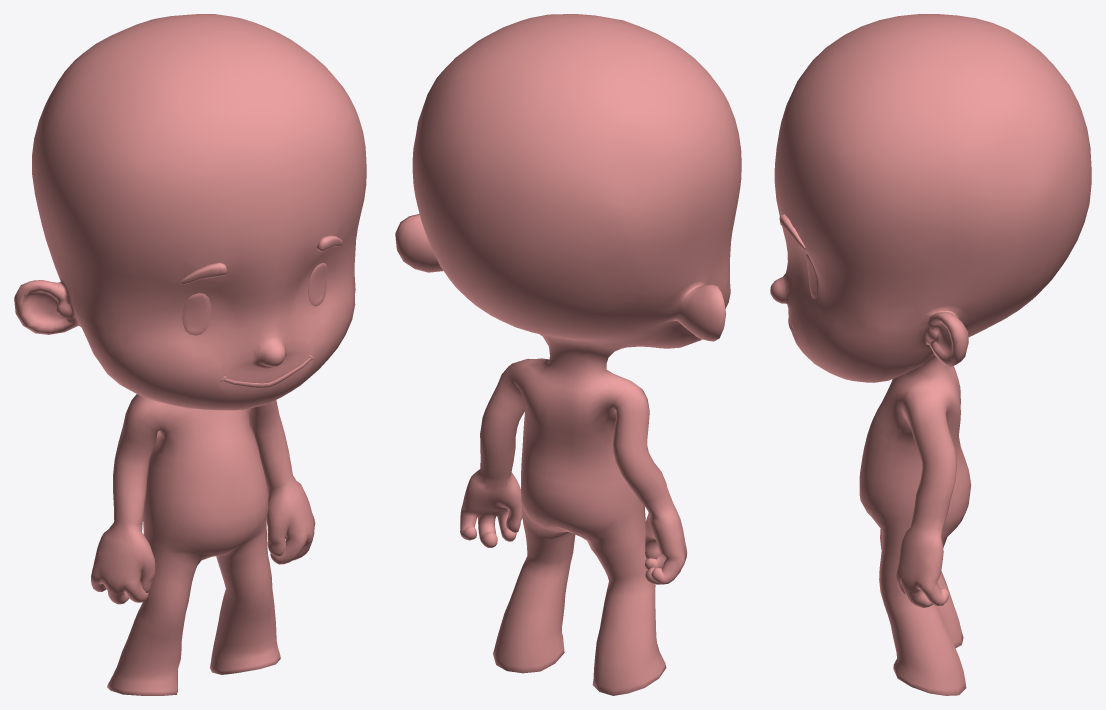
File: blend shape.fbx
3 views of the same model, side by side, from view 1: azimuth 30°, elevation 25°; view 2: azimuth 150°, elevation 25°; view 3: azimuth 270°, elevation 25° (orthographic). The views are drawn at different scales.
Visible parts, largest first — view 1: adam_A_animSetup_v014:MAIN_body1; view 2: adam_A_animSetup_v014:MAIN_body1; view 3: adam_A_animSetup_v014:MAIN_body1.
Part boxes in pixels (bbox=[...]): adam_A_animSetup_v014:MAIN_body1: bbox=[14, 14, 366, 695]; adam_A_animSetup_v014:MAIN_body1: bbox=[395, 14, 741, 695]; adam_A_animSetup_v014:MAIN_body1: bbox=[770, 14, 1091, 695].
Bounding box in the file's own units: 68.36 × 127 × 58.28.
